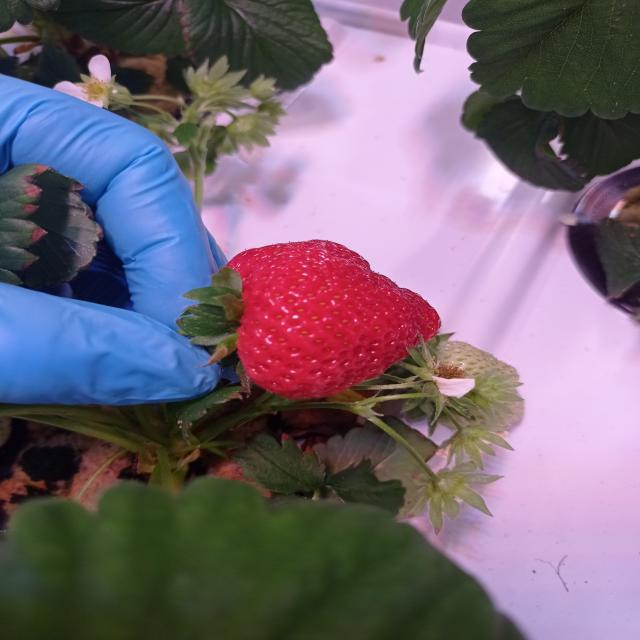Healthy Fruit: (227, 240, 443, 401)
